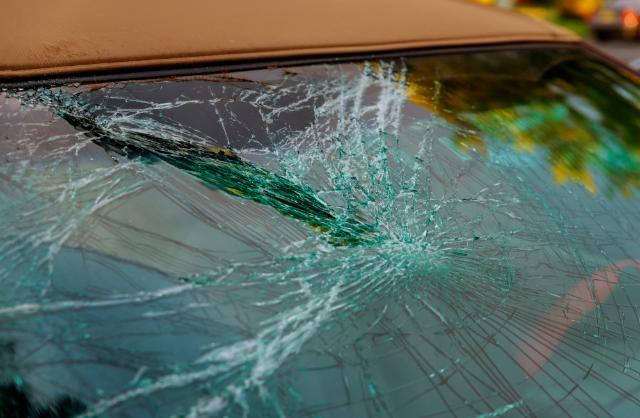glass shatter: (0, 46, 640, 418)
